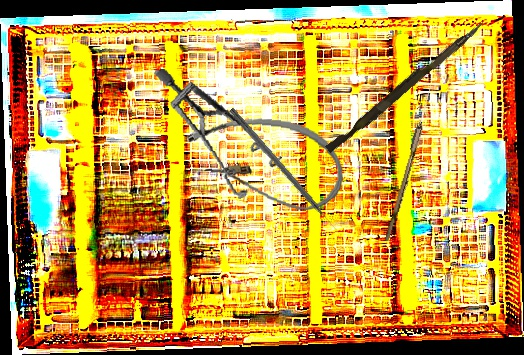Cannula: (180, 110, 349, 215)
Hook Surgical: (228, 106, 341, 236)
Pusher: (325, 14, 486, 158)
Speculum: (153, 51, 288, 210)
Surgical Spoon: (384, 83, 435, 243)
